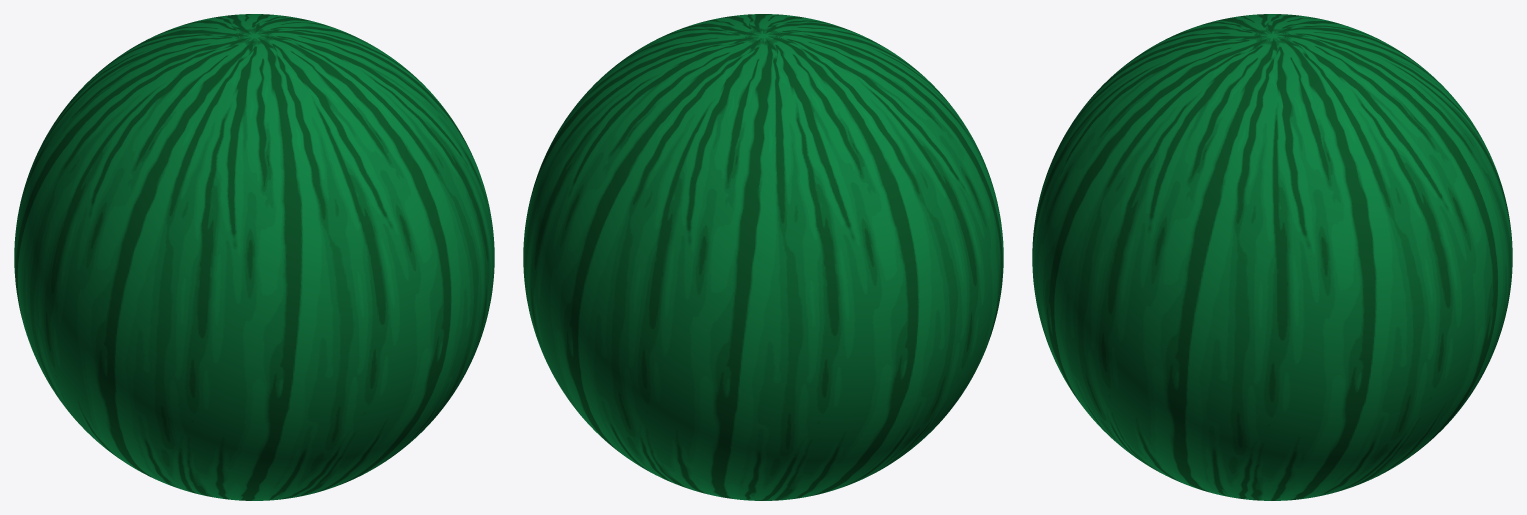
Rendered from Sandia.glb.
The picture shows the model from 3 angles, left to right: view 1: azimuth 30°, elevation 25°; view 2: azimuth 150°, elevation 25°; view 3: azimuth 270°, elevation 25°; orthographic projection.
Visible parts, largest first — view 1: pSphere4; view 2: pSphere4; view 3: pSphere4.
Part boxes in pixels (x1,y1,x2,y2): pSphere4: (14, 14, 494, 500); pSphere4: (523, 14, 1003, 500); pSphere4: (1032, 14, 1512, 500).
Bounding box in the file's own units: 0.0196 × 0.02 × 0.0196.
Materials: 1 (1 with a texture image).
